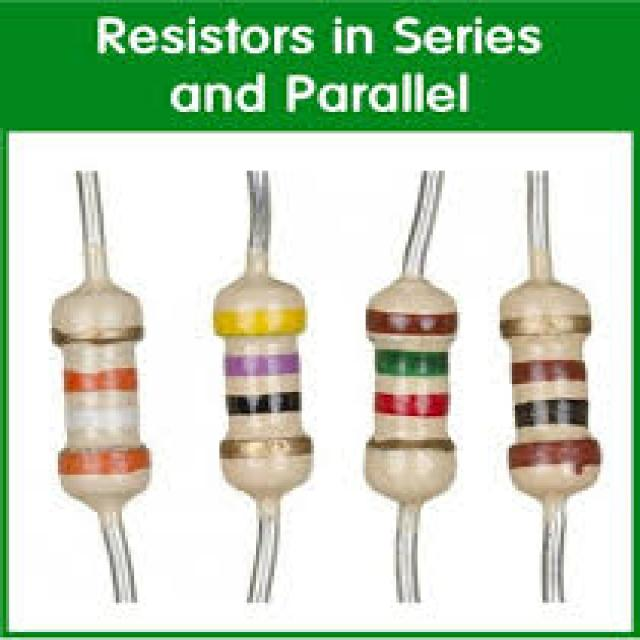Resistor: (55, 280, 146, 512), (503, 280, 597, 499), (216, 275, 308, 496), (366, 277, 454, 504)
black: (512, 400, 594, 431), (226, 390, 307, 418)
brown: (506, 438, 606, 477), (369, 307, 463, 338), (509, 358, 594, 386), (369, 438, 457, 453)
gold: (500, 312, 600, 341), (220, 438, 316, 461), (46, 326, 149, 346)
green: (375, 347, 454, 378)
orange: (58, 448, 155, 477), (64, 368, 146, 397)
purple: (223, 352, 304, 378)
red: (372, 395, 454, 418)
white: (64, 408, 146, 426)
yellow: (205, 310, 313, 338)
